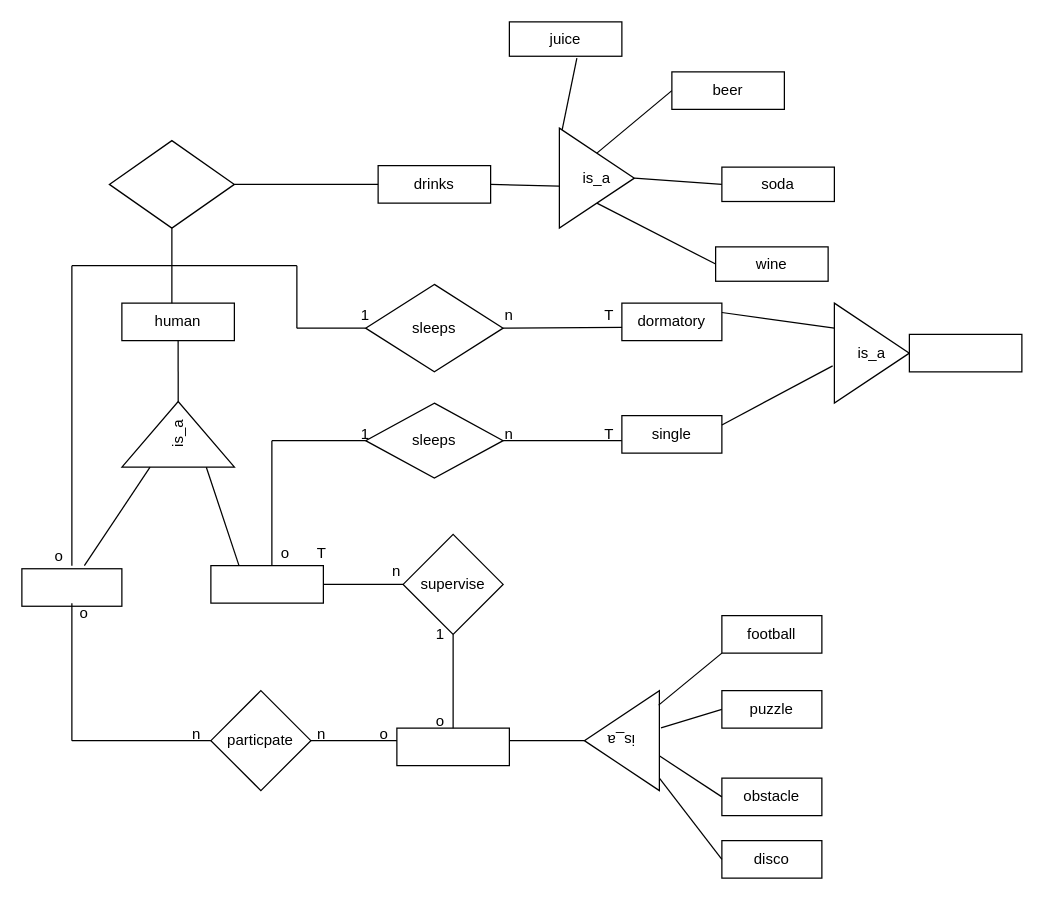
The diagram is 1044 pixels wide and 900 high, and some of its shapes have lost their labels. The shapes that lost their labels are listed below. From the top down, each one's centre as x and y in pixels, then its label:
At point (171, 183): "buys".
At point (965, 352): "room".
At point (71, 587): "student".
At point (266, 583): "teacher".
At point (452, 746): "activity".
